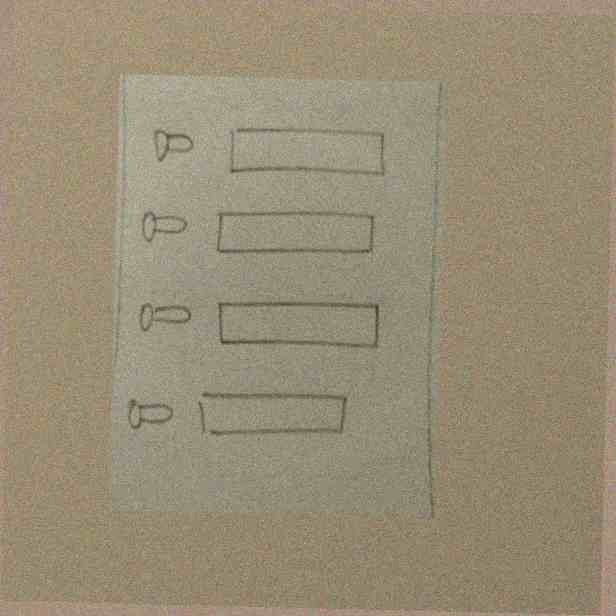switch: (134, 293, 192, 339), (122, 391, 180, 437), (144, 123, 195, 168), (138, 203, 189, 248)
text_input: (213, 292, 385, 355), (226, 123, 389, 185), (213, 202, 377, 263), (194, 386, 351, 438)
